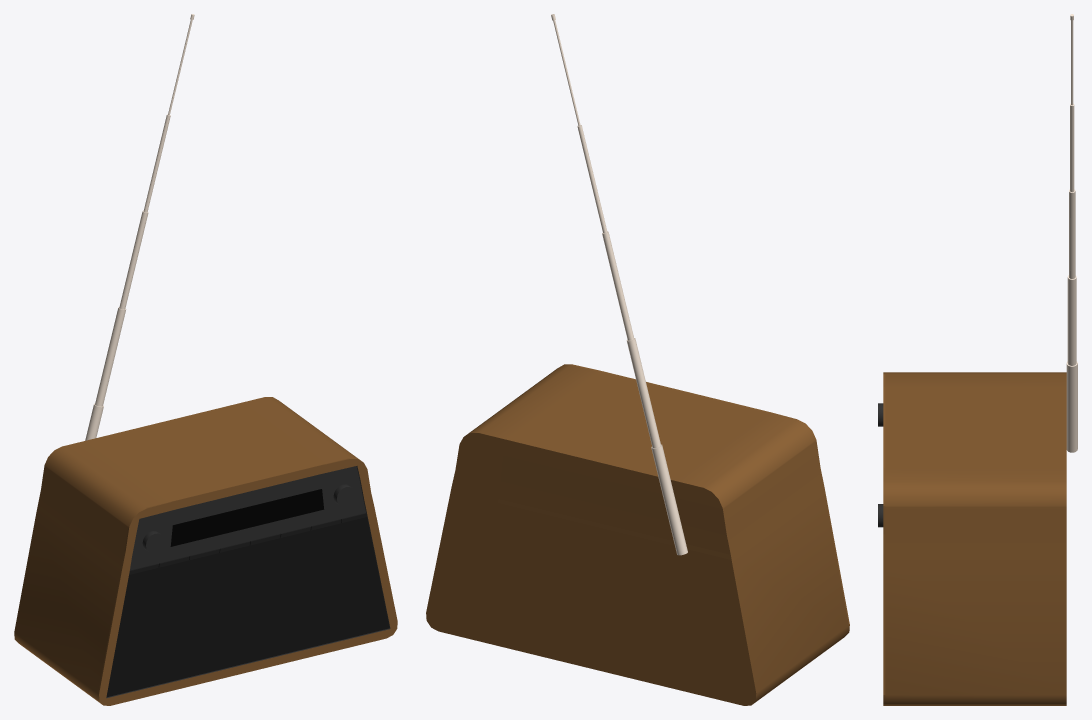
The model's file is Radio.fbx.
3 views of the same model, side by side, from view 1: azimuth 30°, elevation 25°; view 2: azimuth 150°, elevation 25°; view 3: azimuth 270°, elevation 25° (orthographic). The views are drawn at different scales.
Visible parts, largest first — view 1: Radio; view 2: Radio; view 3: Radio.
Part boxes in pixels (bbox=[...]): Radio: bbox=[14, 14, 397, 705]; Radio: bbox=[426, 14, 849, 705]; Radio: bbox=[878, 14, 1077, 705].
Bounding box in the file's own units: 9.95 × 18.66 × 5.33.
